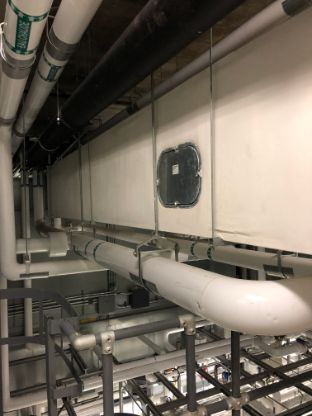Duct: (74, 5, 312, 252)
